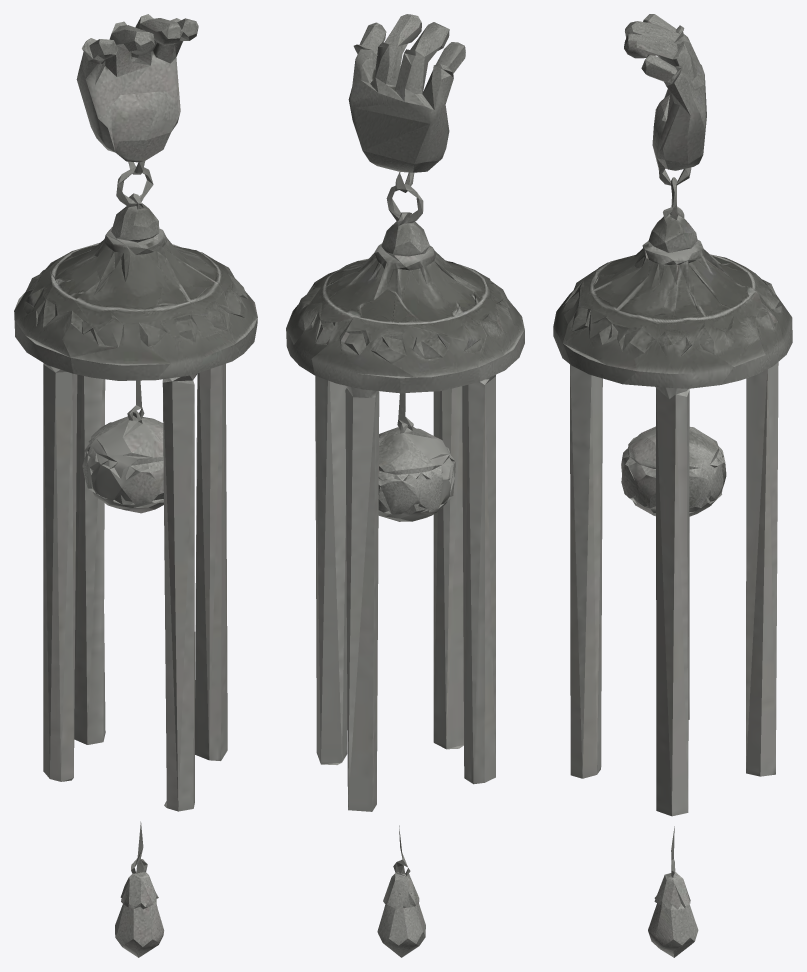
The picture shows the model from 3 angles, left to right: view 1: azimuth 30°, elevation 25°; view 2: azimuth 150°, elevation 25°; view 3: azimuth 270°, elevation 25°; orthographic projection. The views are drawn at different scales.
Size of the model in its own units: 0.2337 by 1 by 0.2337.
1 material, 1 textured.
